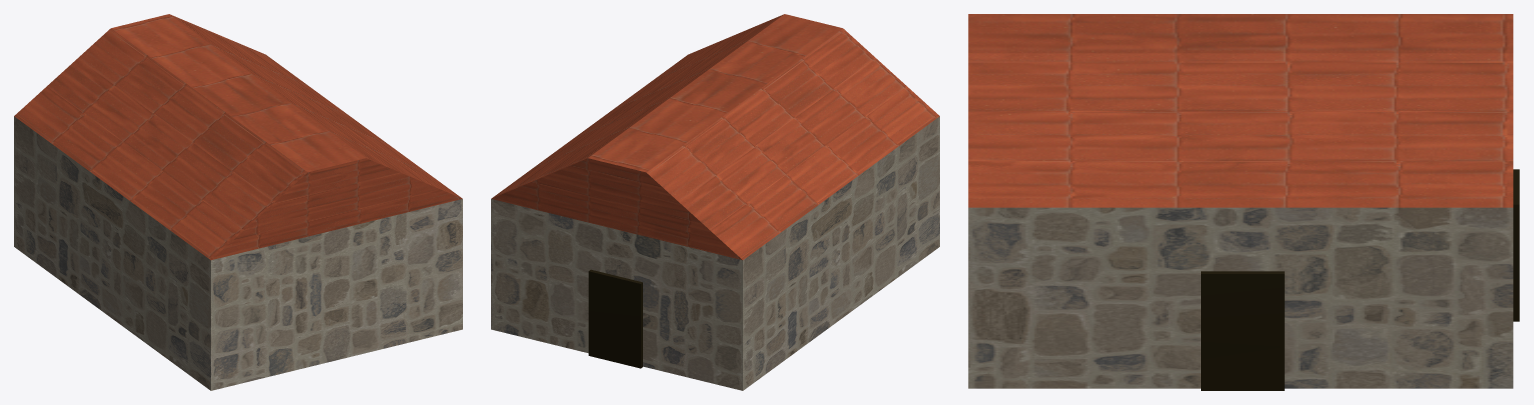
The model's file is rural-house-small_2.fbx.
3 views of the same model, side by side, from view 1: azimuth 30°, elevation 25°; view 2: azimuth 150°, elevation 25°; view 3: azimuth 270°, elevation 25° (orthographic). The views are drawn at different scales.
Parts seen in each view (by area): view 1: Cube.036; view 2: Cube.036; view 3: Cube.036.
Part boxes in pixels (x1,y1,x2,y2): Cube.036: (14,14,462,390); Cube.036: (491,14,939,390); Cube.036: (968,14,1519,390).
Bounding box in the file's own units: 410 × 299 × 553.
